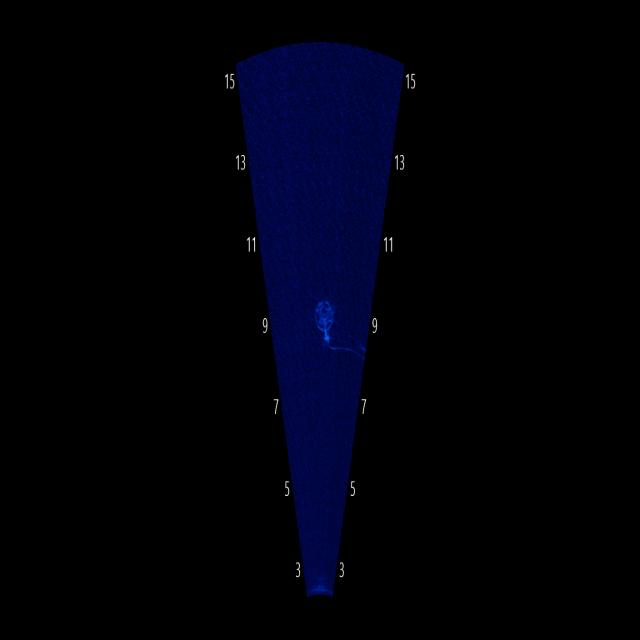circle: (305, 267, 347, 348)
